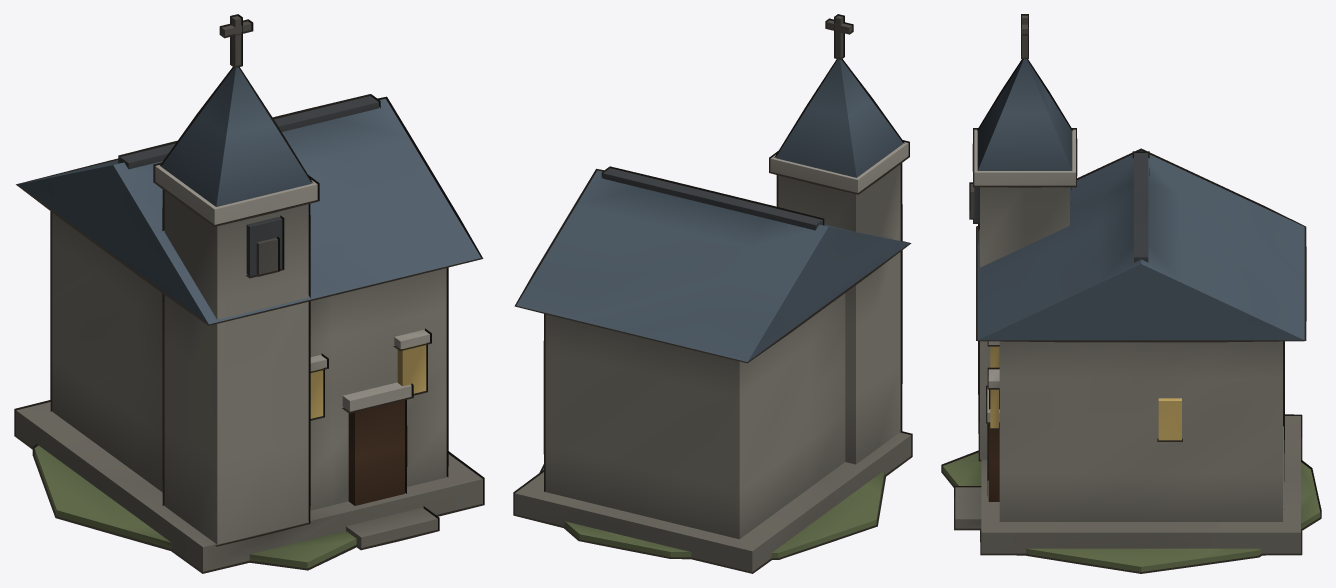
Rendered from chapelle.glb.
3 views of the same model, side by side, from view 1: azimuth 30°, elevation 25°; view 2: azimuth 150°, elevation 25°; view 3: azimuth 270°, elevation 25° (orthographic). The views are drawn at different scales.
Parts seen in each view (by area): view 1: chapelle, chapelle_outline; view 2: chapelle, chapelle_outline; view 3: chapelle, chapelle_outline.
Part boxes in pixels (<box>): chapelle: <box>16,16,482,571</box>; chapelle_outline: <box>14,14,484,573</box>; chapelle: <box>514,15,911,572</box>; chapelle_outline: <box>513,14,912,573</box>; chapelle: <box>942,15,1320,571</box>; chapelle_outline: <box>941,14,1321,573</box>.
Bounding box in the file's own units: 2.58 × 3.4 × 2.62.
